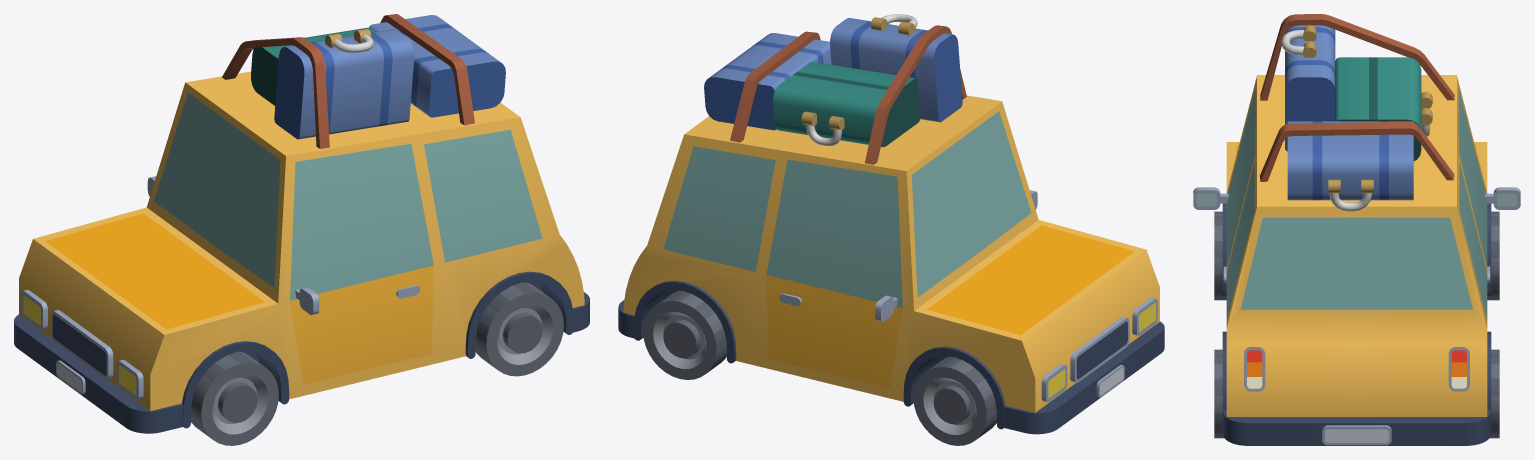
File: Car1.fbx
3 views of the same model, side by side, from view 1: azimuth 30°, elevation 25°; view 2: azimuth 150°, elevation 25°; view 3: azimuth 270°, elevation 25° (orthographic). The views are drawn at different scales.
Parts seen in each view (by area): view 1: City Car Hatchback, Cube.003, City Car Hatchback Wheel, City Car Hatchback Wheel.001; view 2: City Car Hatchback, Cube.003, City Car Hatchback Wheel, City Car Hatchback Wheel.001; view 3: City Car Hatchback, Cube.003, City Car Hatchback Wheel.001, City Car Hatchback Wheel.
Part boxes in pixels (left/top/right/bottom): City Car Hatchback: left=14, top=71, right=589, bottom=433; Cube.003: left=222, top=14, right=505, bottom=148; City Car Hatchback Wheel: left=475, top=282, right=563, bottom=376; City Car Hatchback Wheel.001: left=190, top=351, right=278, bottom=445; City Car Hatchback: left=618, top=95, right=1164, bottom=434; Cube.003: left=704, top=14, right=966, bottom=164; City Car Hatchback Wheel: left=643, top=290, right=726, bottom=379; City Car Hatchback Wheel.001: left=913, top=356, right=996, bottom=445; City Car Hatchback: left=1193, top=75, right=1520, bottom=445; Cube.003: left=1260, top=14, right=1454, bottom=211; City Car Hatchback Wheel.001: left=1214, top=211, right=1499, bottom=300; City Car Hatchback Wheel: left=1214, top=349, right=1499, bottom=438.
Size of the model in its own units: 8.45 by 5.91 by 5.2.
